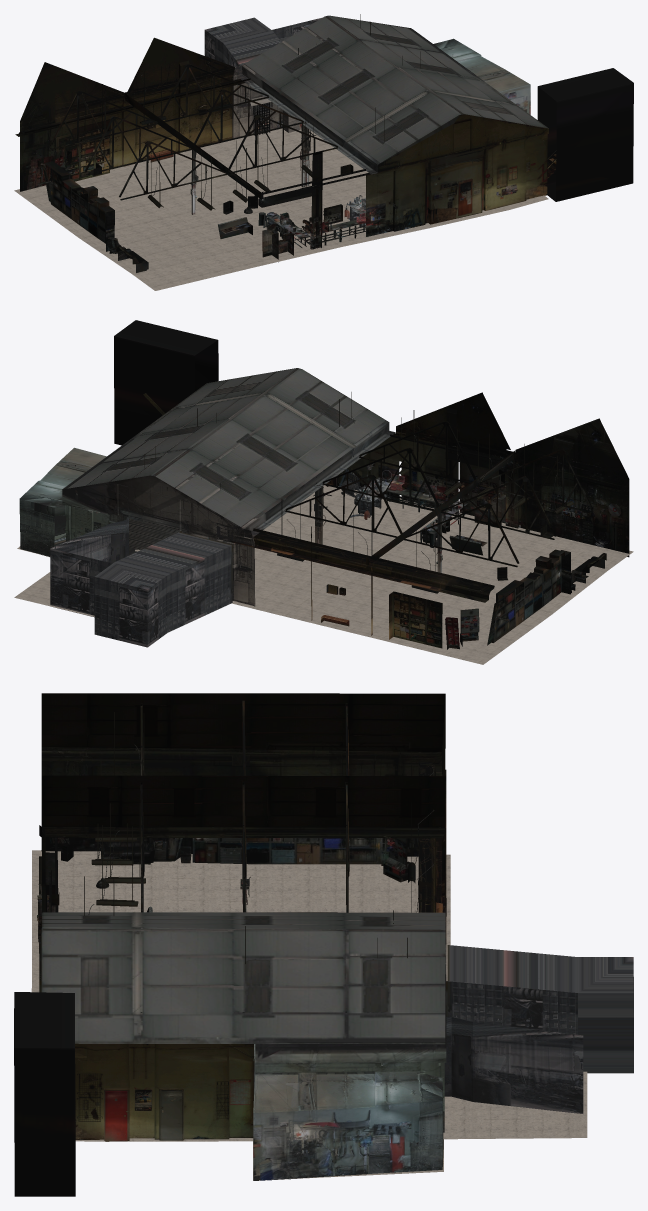
Rendered from FVRBOW5K28TUGPPV2673XRH9I.gltf.
3 renders of one model, top to bottom at view 1: azimuth 30°, elevation 25°; view 2: azimuth 150°, elevation 25°; view 3: azimuth 270°, elevation 25°, orthographic. The views are drawn at different scales.
Size of the model in its own units: 2.5 by 0.7756 by 1.91.
5 materials, 5 textured.
